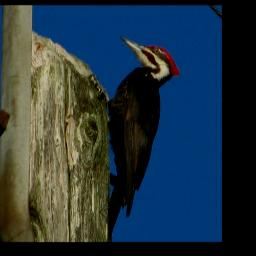Woodpecker: (93, 37, 185, 238)
